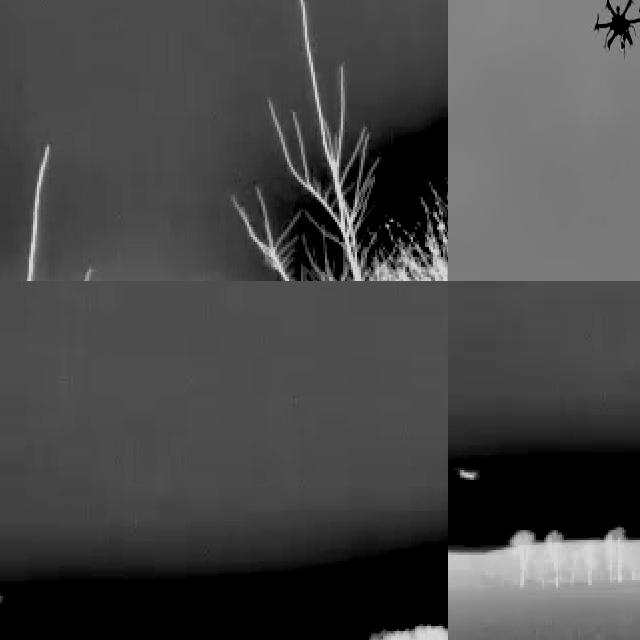1: (449, 463, 487, 495), (0, 584, 9, 617)
drone: (589, 0, 640, 56)
